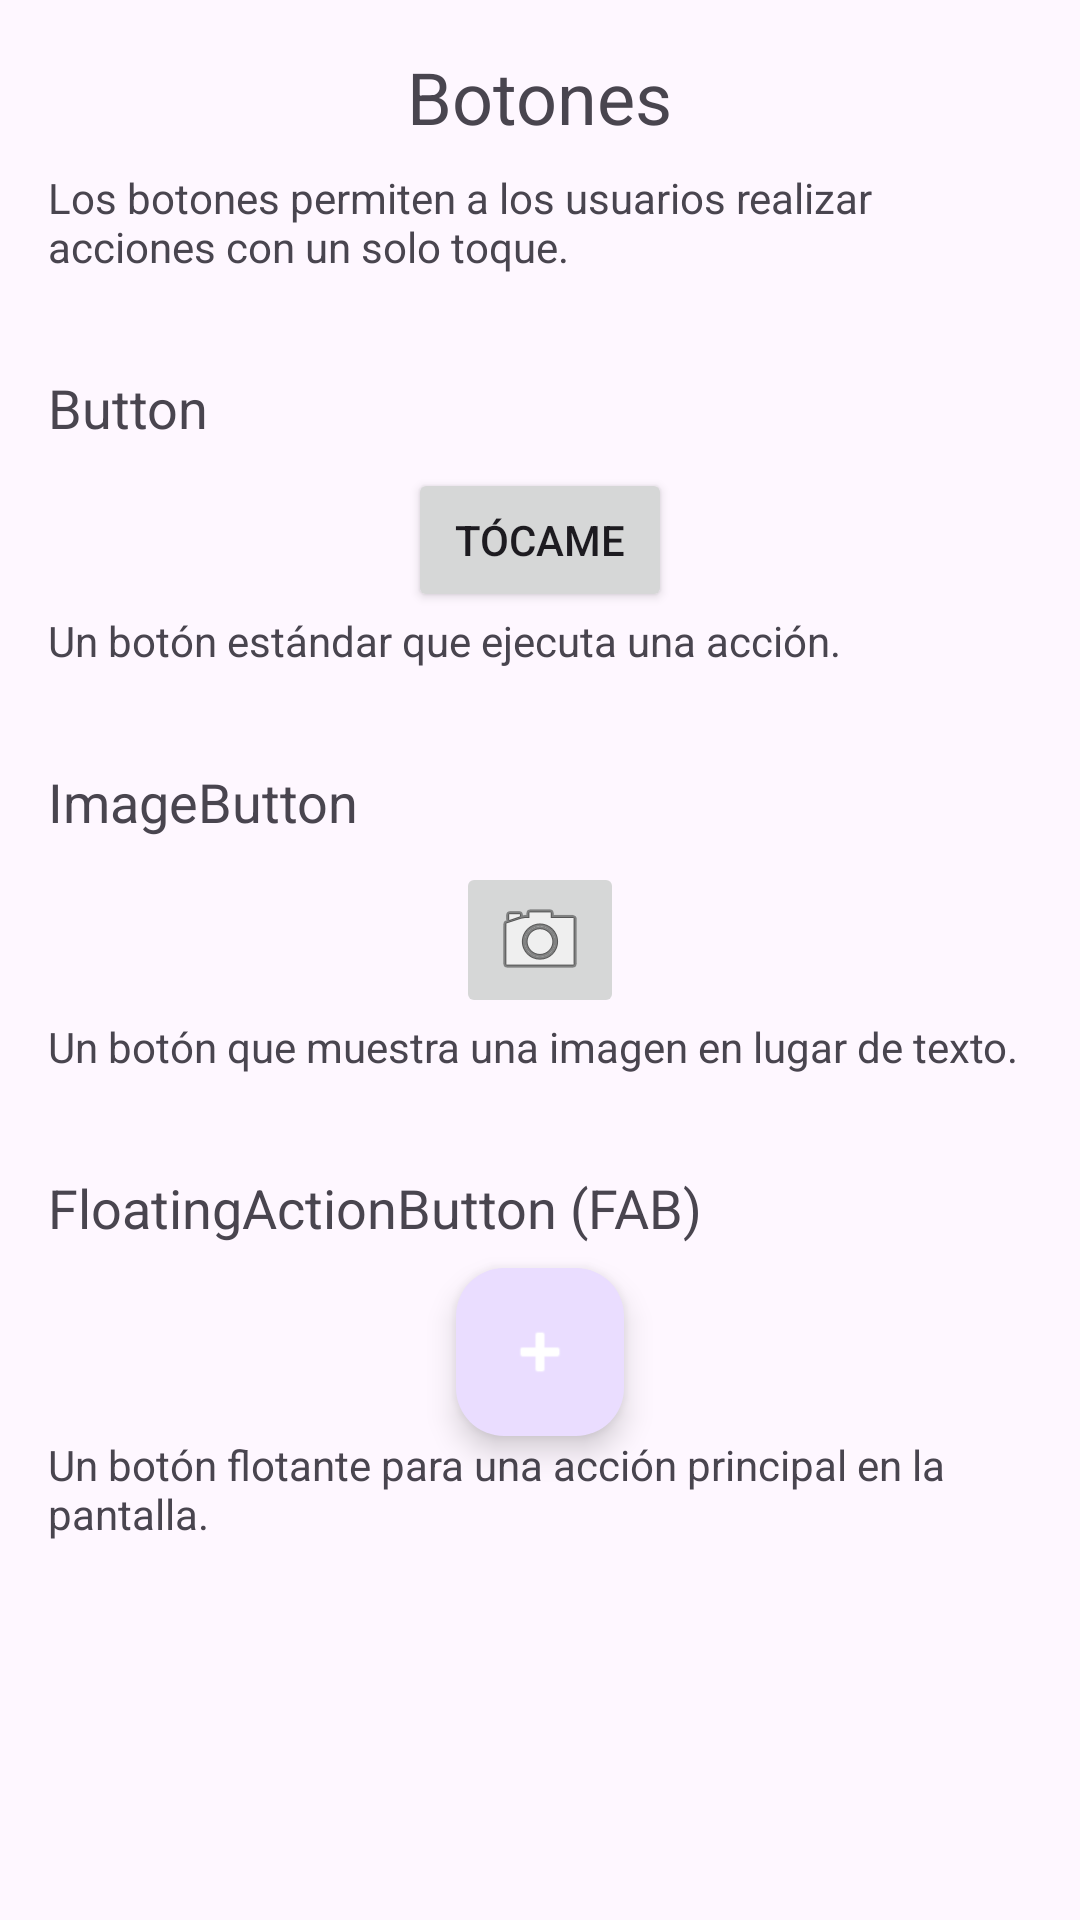

Where icons sit on this 1080 × 1920 app screen, as (x1, y1, x2, y2):
Añadir: (456, 1268, 624, 1436)
Cámara: (468, 880, 612, 1000)
